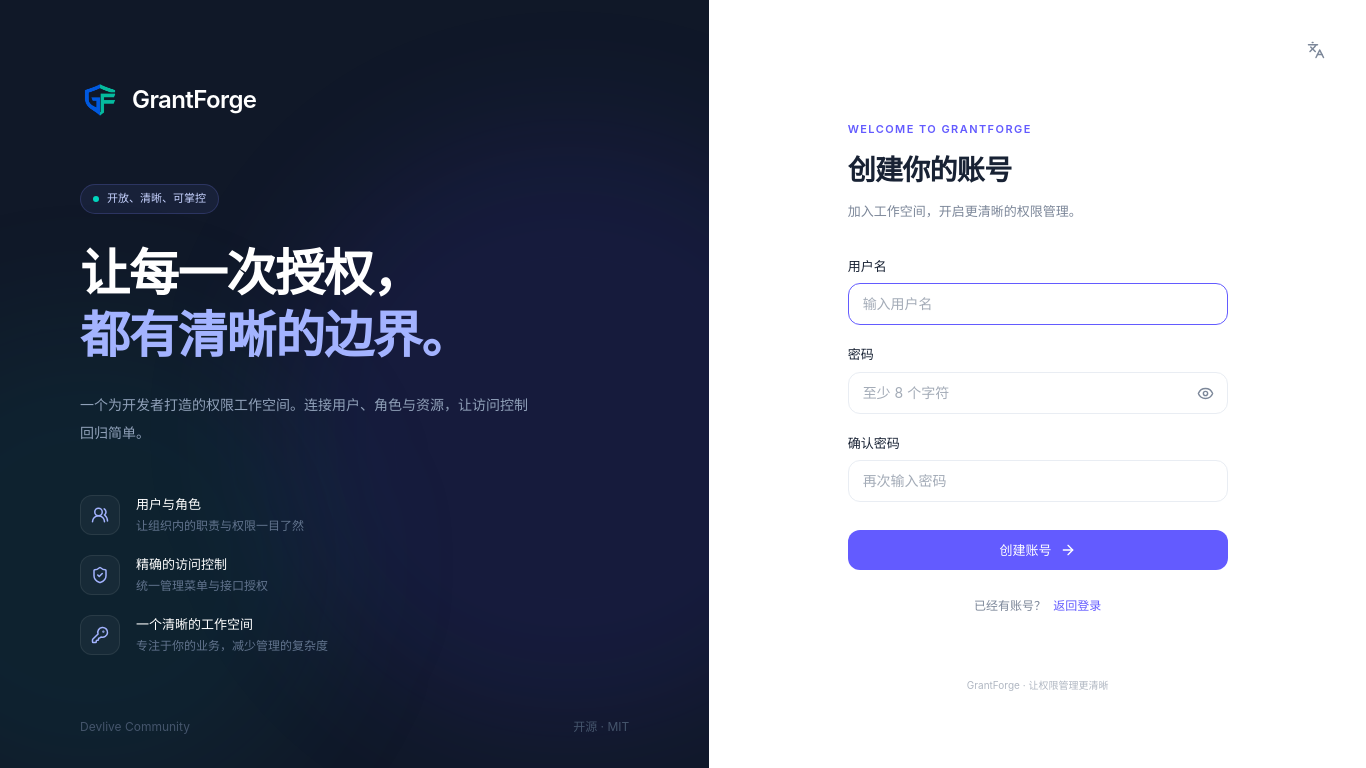
Scenario: auth view › validates registration and confirms a created account
Type "alex" into the field labelled "用户名" at (1038, 304), box [848, 283, 1228, 325]
Type "long-enough" into the password field labelled "密码" at (1038, 393), box [848, 372, 1228, 414]
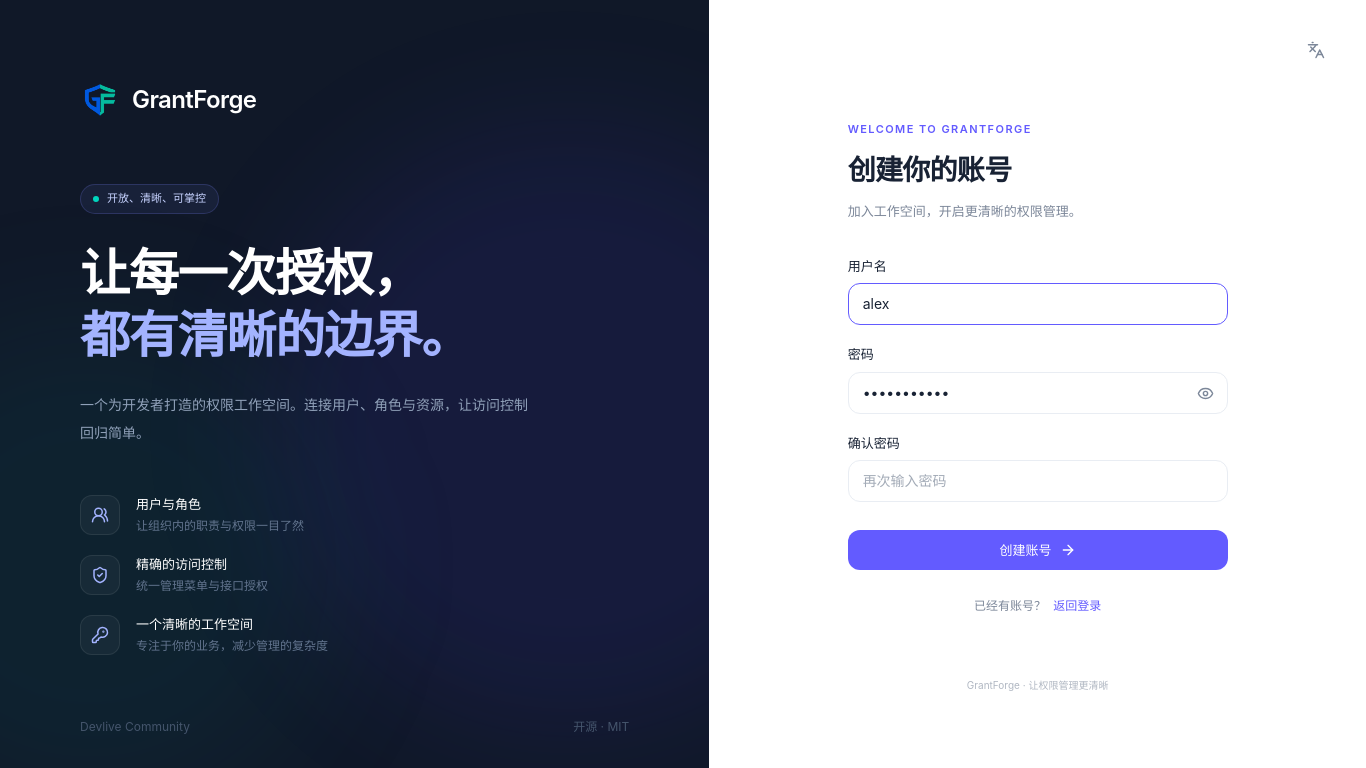
Submit the form, box [848, 256, 1228, 570]
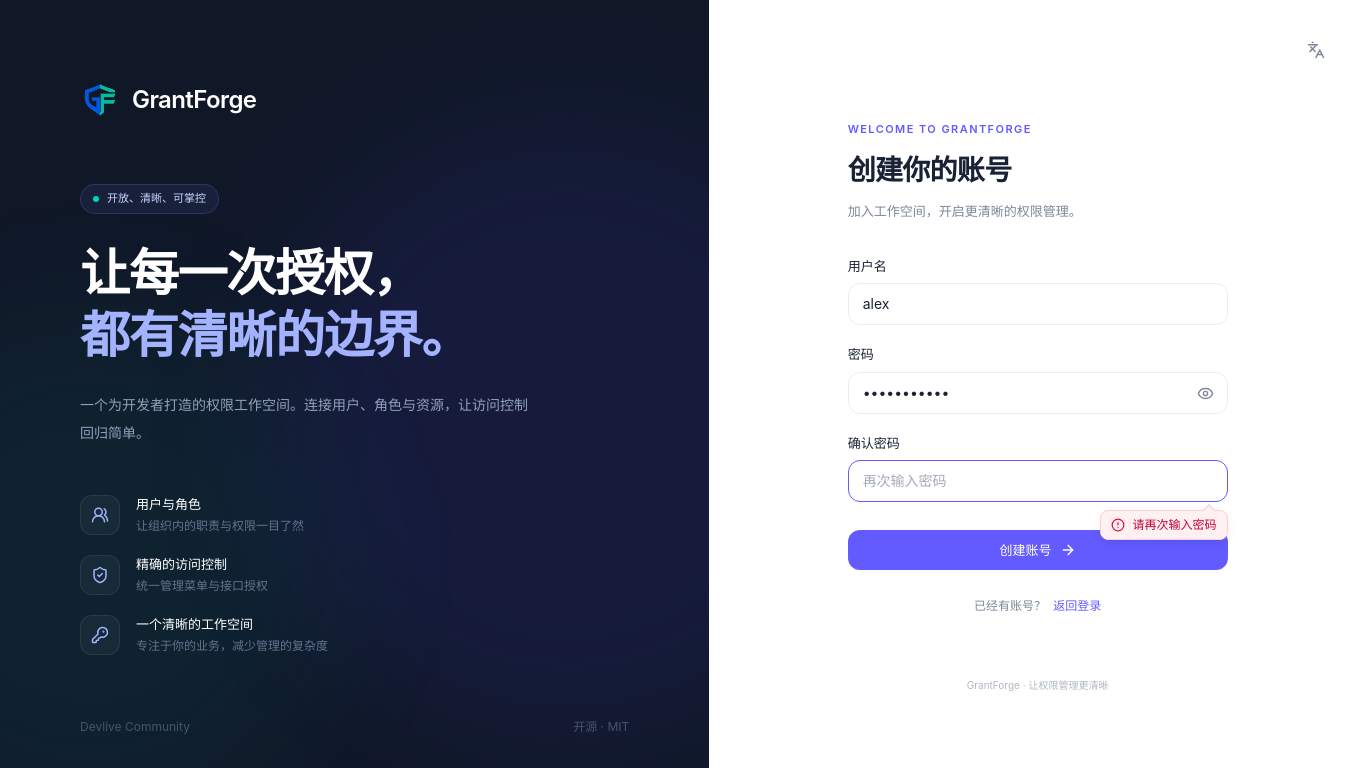
Now the text "请再次输入密码" is shown, box [1133, 515, 1217, 535]
Type "different" into the password field labelled "确认密码" at (1038, 481), box [848, 460, 1228, 502]
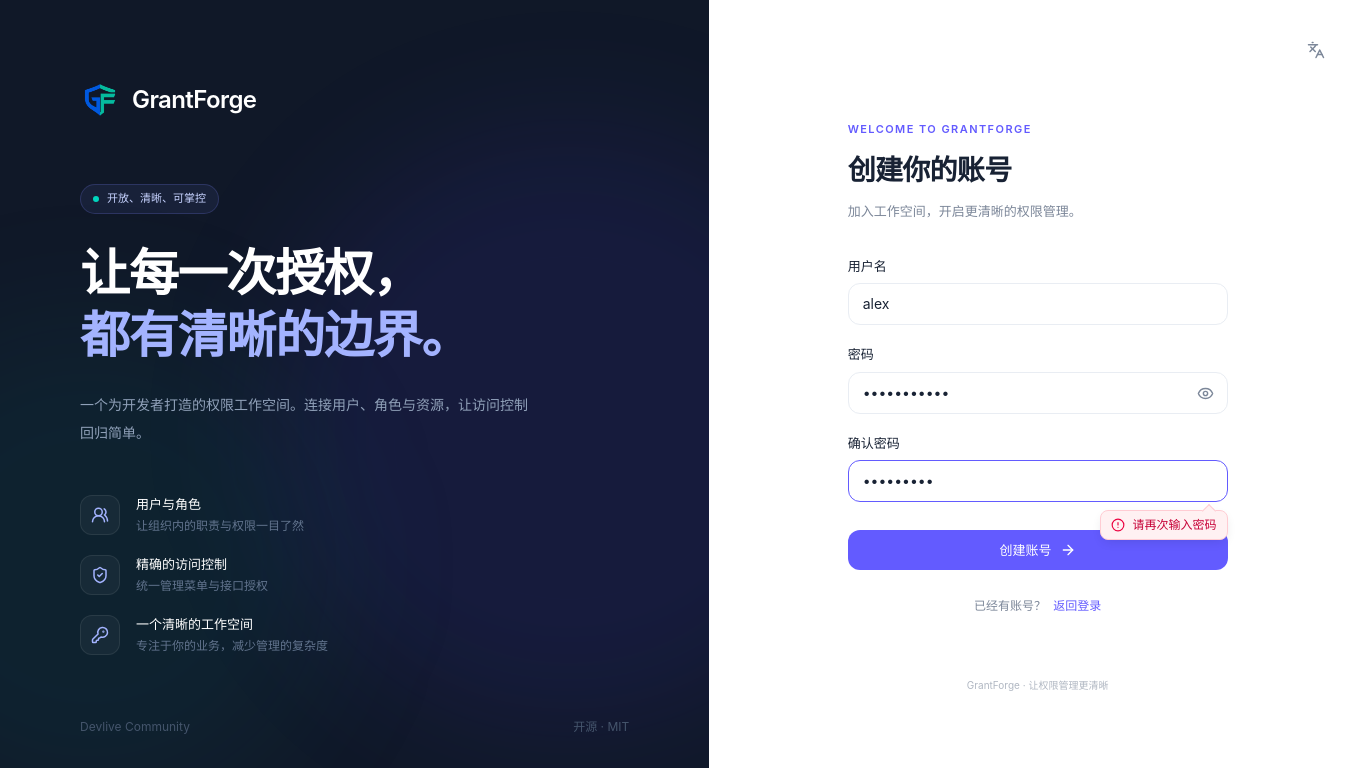
Submit the form, box [848, 256, 1228, 570]
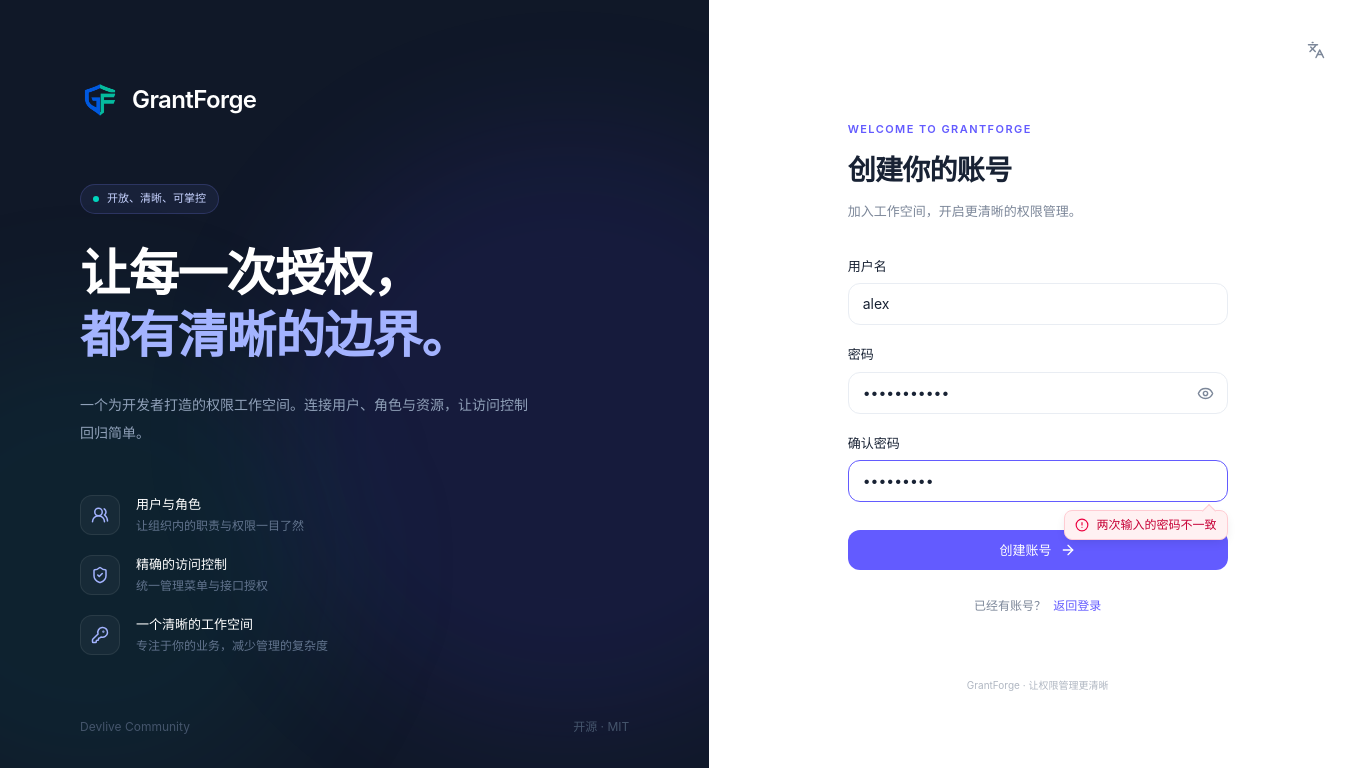
Now the text "两次输入的密码不一致" is shown, box [1097, 515, 1217, 535]
Type "long-enough" into the password field labelled "确认密码" at (1038, 481), box [848, 460, 1228, 502]
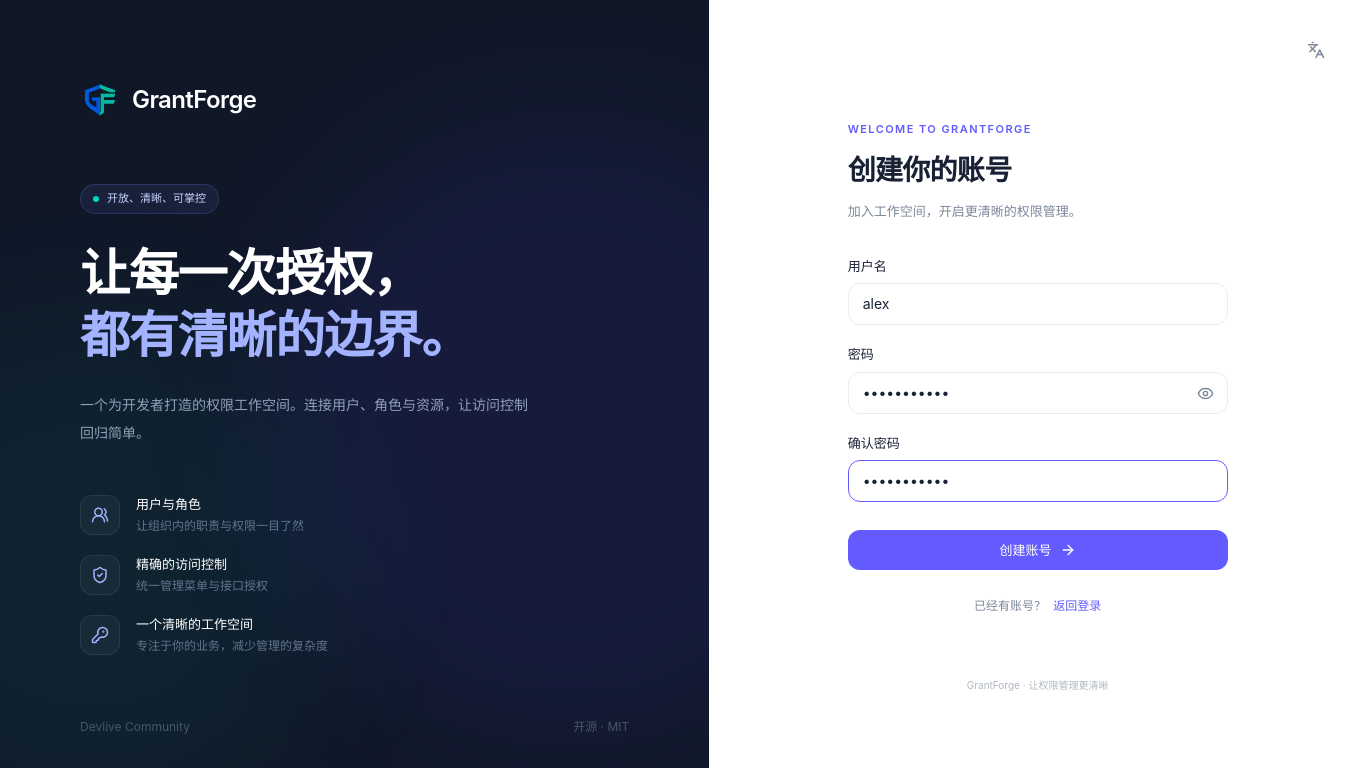
Submit the form, box [848, 256, 1228, 570]
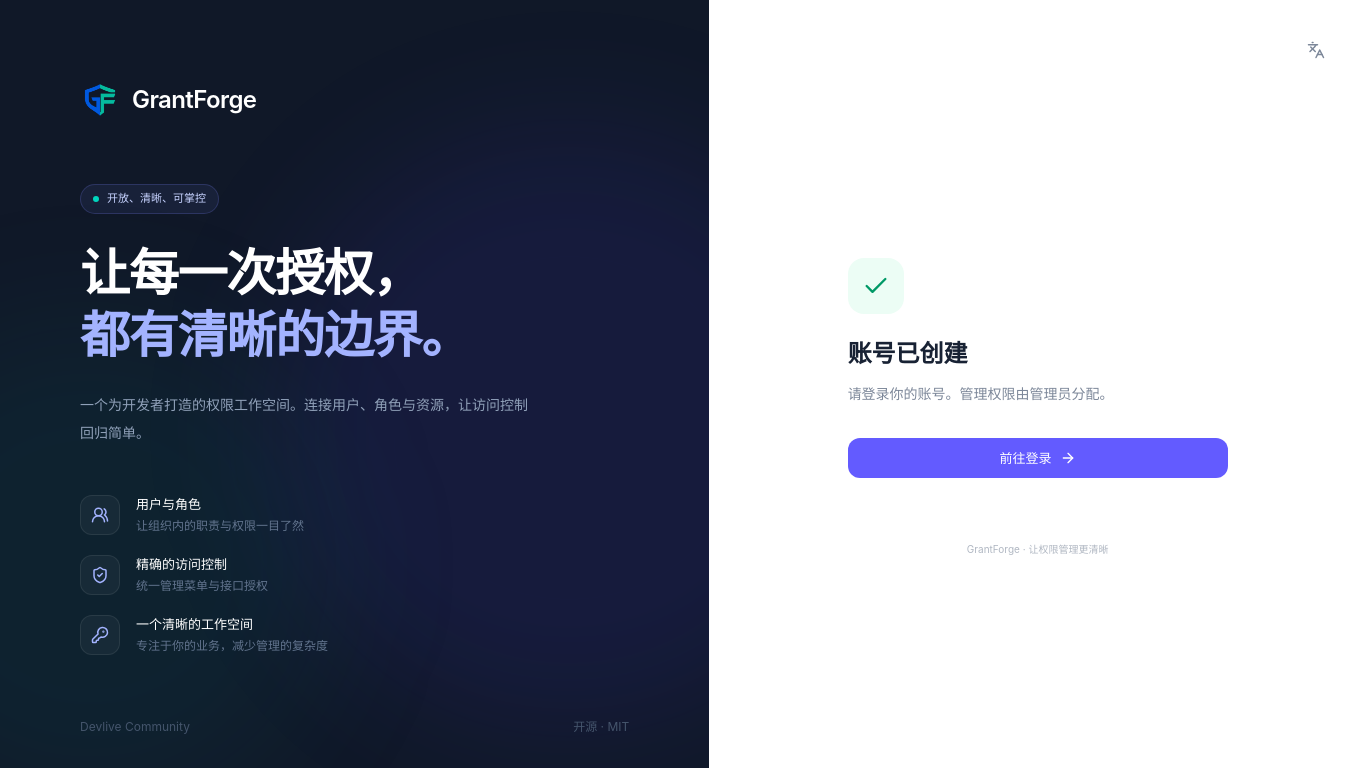
Now the heading "账号已创建" is shown, box [848, 339, 968, 368]
